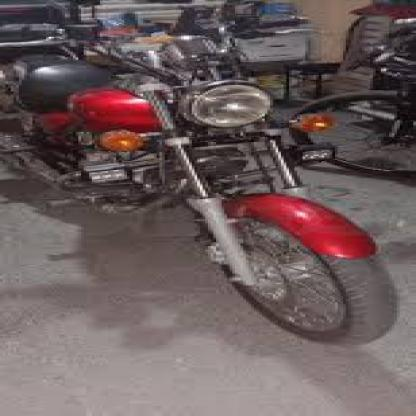Motorcycle: (0, 0, 414, 355)
